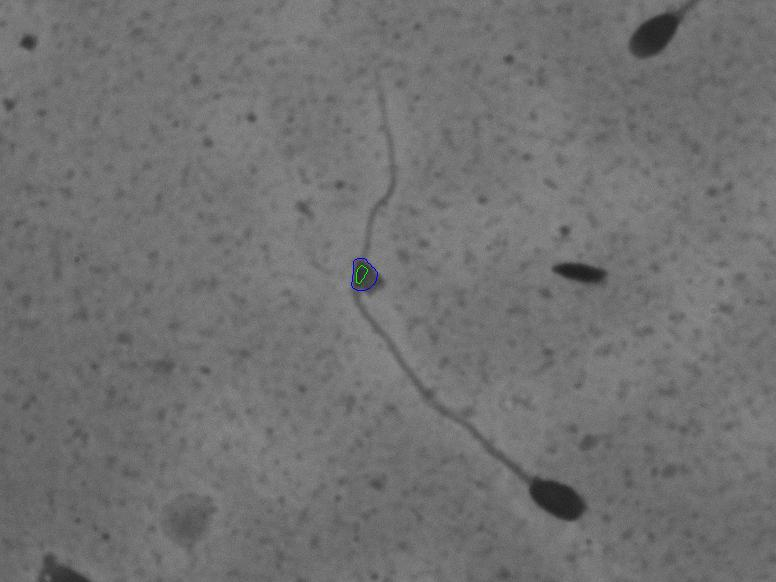Abnormal: (265, 67, 599, 545)
